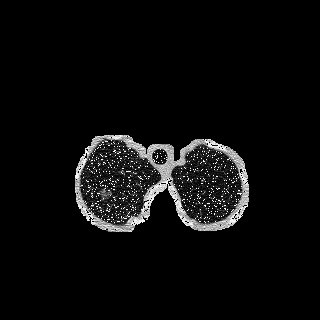PN: (100, 190, 108, 198)
